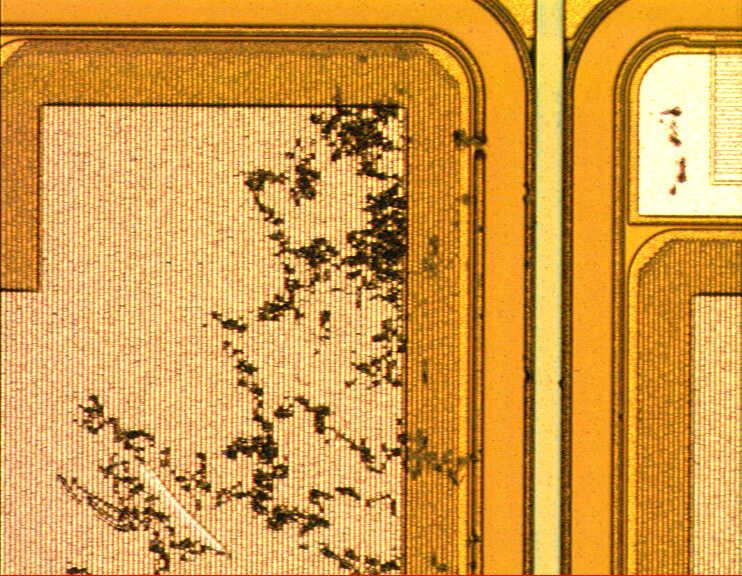SCRATCH: (48, 75, 701, 576)
